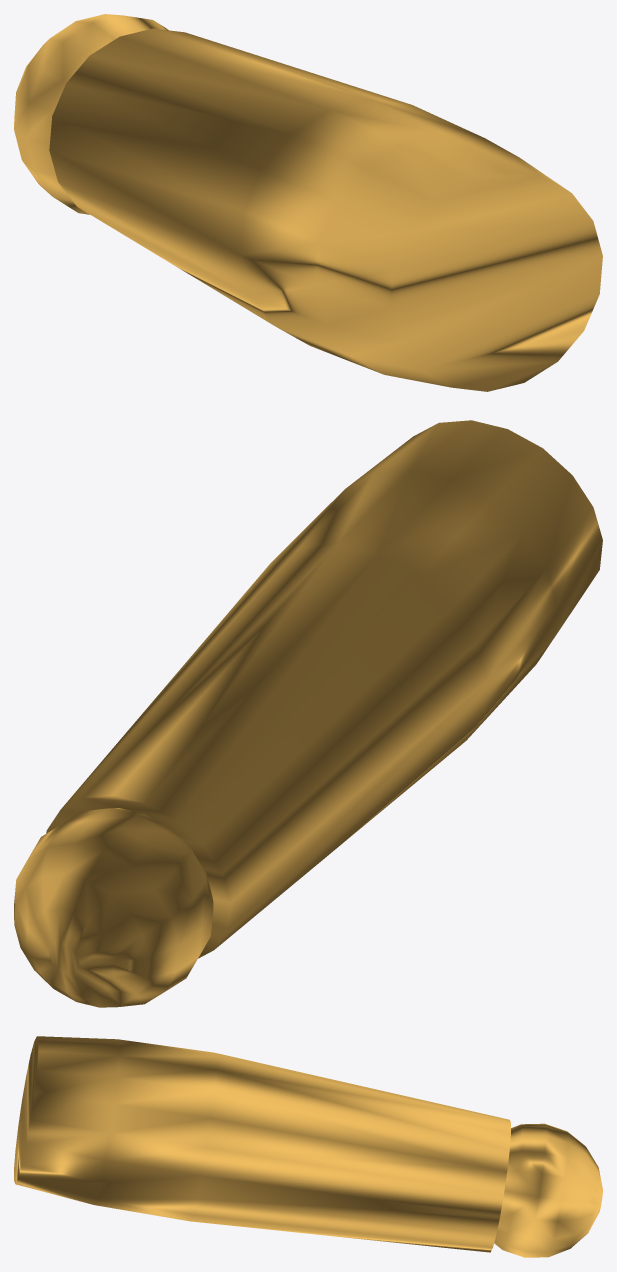
The model's file is upper_leg.dae.
3 renders of one model, top to bottom at view 1: azimuth 30°, elevation 25°; view 2: azimuth 150°, elevation 25°; view 3: azimuth 270°, elevation 25°, orthographic. The views are drawn at different scales.
Visible parts, largest first — view 1: Node_000001982B1E13C0; view 2: Node_000001982B1E13C0; view 3: Node_000001982B1E13C0.
Part boxes in pixels (left/top/right/bottom): Node_000001982B1E13C0: left=14, top=14, right=602, bottom=391; Node_000001982B1E13C0: left=14, top=420, right=602, bottom=1007; Node_000001982B1E13C0: left=14, top=1036, right=602, bottom=1257.
Size of the model in its own units: 0.1394 by 0.17 by 0.4465.
